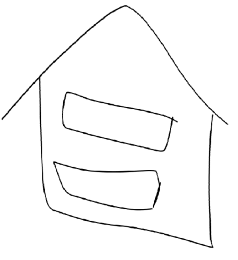big_house: (0, 0, 236, 255)
open_window: (58, 81, 178, 157), (48, 152, 170, 212)
single_line_roof: (1, 0, 238, 125)
wall: (27, 69, 219, 248)
